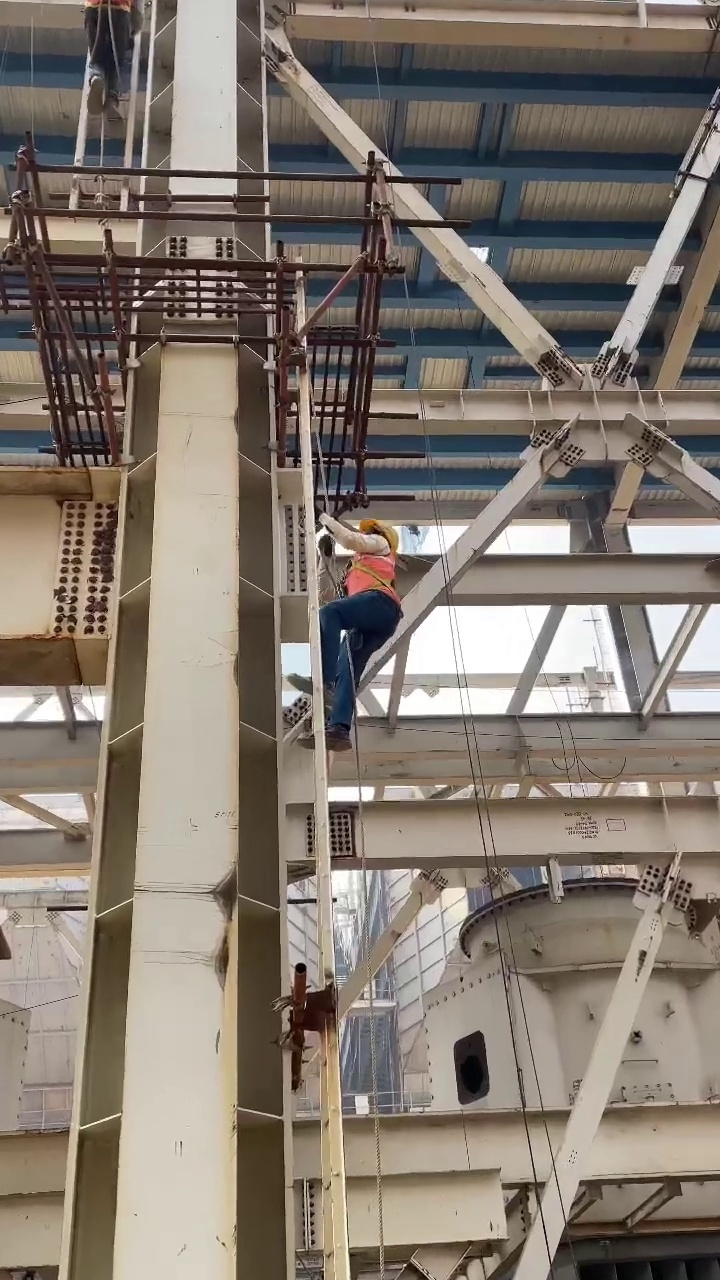Helmet: (360, 514, 400, 547)
Person: (290, 514, 402, 748)
Safety_Harness: (348, 551, 401, 601)
Safety_shoes: (299, 725, 352, 751), (287, 672, 323, 694), (87, 80, 107, 119), (105, 105, 124, 131)
